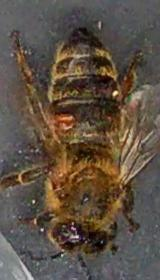varroa_mite: (51, 109, 78, 134)
